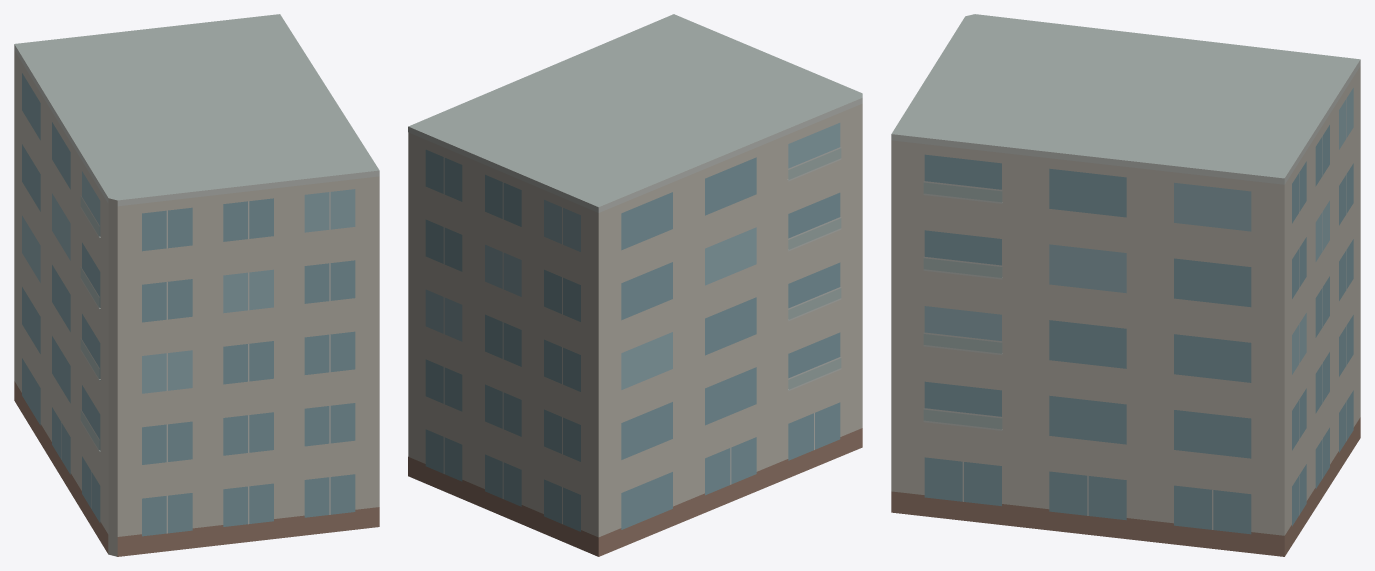
Rendered from survey-upis-33001733.glb.
The picture shows the model from 3 angles, left to right: view 1: azimuth 30°, elevation 25°; view 2: azimuth 150°, elevation 25°; view 3: azimuth 270°, elevation 25°; orthographic projection. The views are drawn at different scales.
Visible parts, largest first — view 1: survey-upis-33001733.tmp; view 2: survey-upis-33001733.tmp; view 3: survey-upis-33001733.tmp.
Part boxes in pixels (x1,y1,x2,y2): survey-upis-33001733.tmp: (14, 14, 379, 556); survey-upis-33001733.tmp: (408, 14, 862, 556); survey-upis-33001733.tmp: (891, 14, 1360, 556).
Size of the model in its own units: 13.75 by 14.75 by 16.59.
